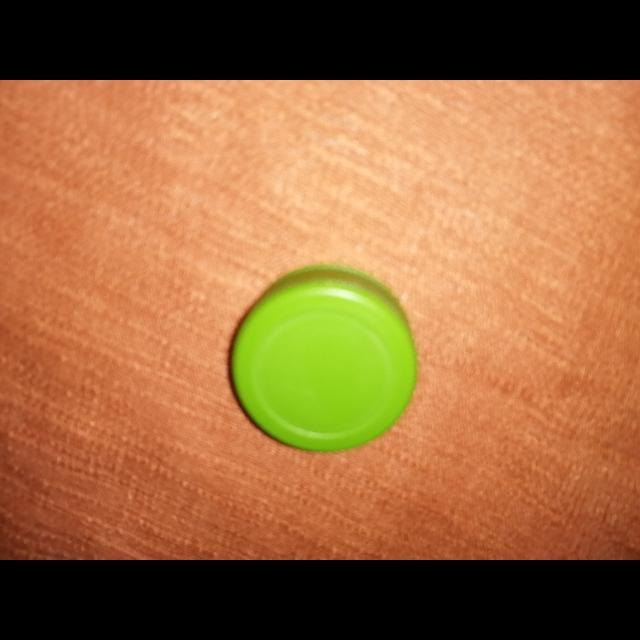plastic_bottle_cap: (228, 266, 418, 452)
